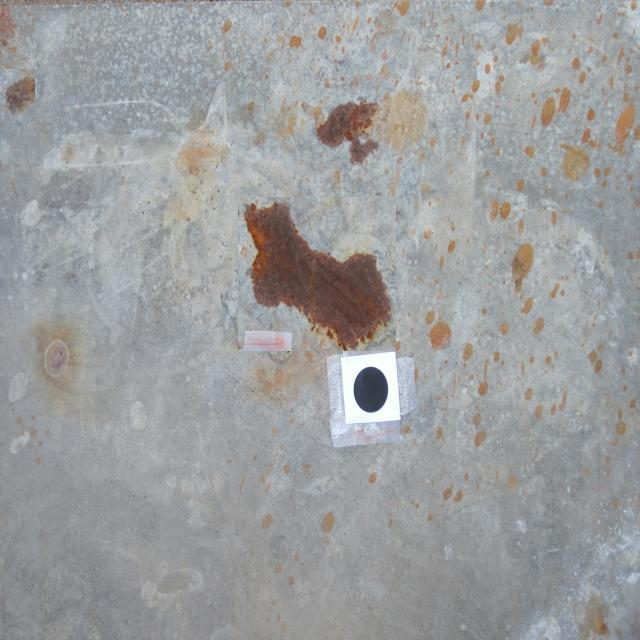Corrosion: (244, 202, 392, 350), (317, 101, 379, 164), (612, 105, 637, 154), (5, 75, 35, 112), (513, 244, 535, 292), (562, 144, 590, 180), (430, 322, 452, 350), (542, 96, 557, 126), (507, 23, 525, 44), (589, 351, 605, 374), (321, 513, 336, 534), (560, 87, 572, 112), (531, 40, 542, 64), (396, 0, 410, 15), (491, 200, 501, 220), (560, 390, 569, 412), (523, 298, 535, 314), (534, 318, 546, 334), (496, 73, 506, 92), (501, 201, 512, 218), (476, 432, 487, 448), (551, 283, 562, 298), (583, 128, 593, 144), (464, 344, 474, 360), (617, 422, 628, 435), (222, 19, 233, 32), (479, 382, 489, 396), (290, 35, 302, 46), (472, 79, 482, 92), (426, 311, 436, 324), (473, 414, 482, 428), (444, 489, 453, 502), (476, 0, 487, 10), (536, 406, 545, 418), (318, 26, 327, 38), (519, 219, 526, 234), (588, 109, 597, 120), (526, 389, 535, 400), (517, 179, 526, 190), (436, 428, 444, 440), (552, 211, 559, 224), (501, 324, 510, 334), (449, 240, 456, 252), (573, 57, 582, 66), (527, 146, 535, 156), (581, 71, 588, 82), (369, 473, 376, 484), (403, 426, 412, 434), (224, 61, 232, 70), (552, 405, 558, 416), (485, 63, 492, 72), (595, 167, 602, 176), (495, 352, 501, 362), (546, 356, 553, 364), (545, 0, 556, 5), (606, 167, 612, 176), (530, 356, 536, 364), (599, 201, 604, 208)
